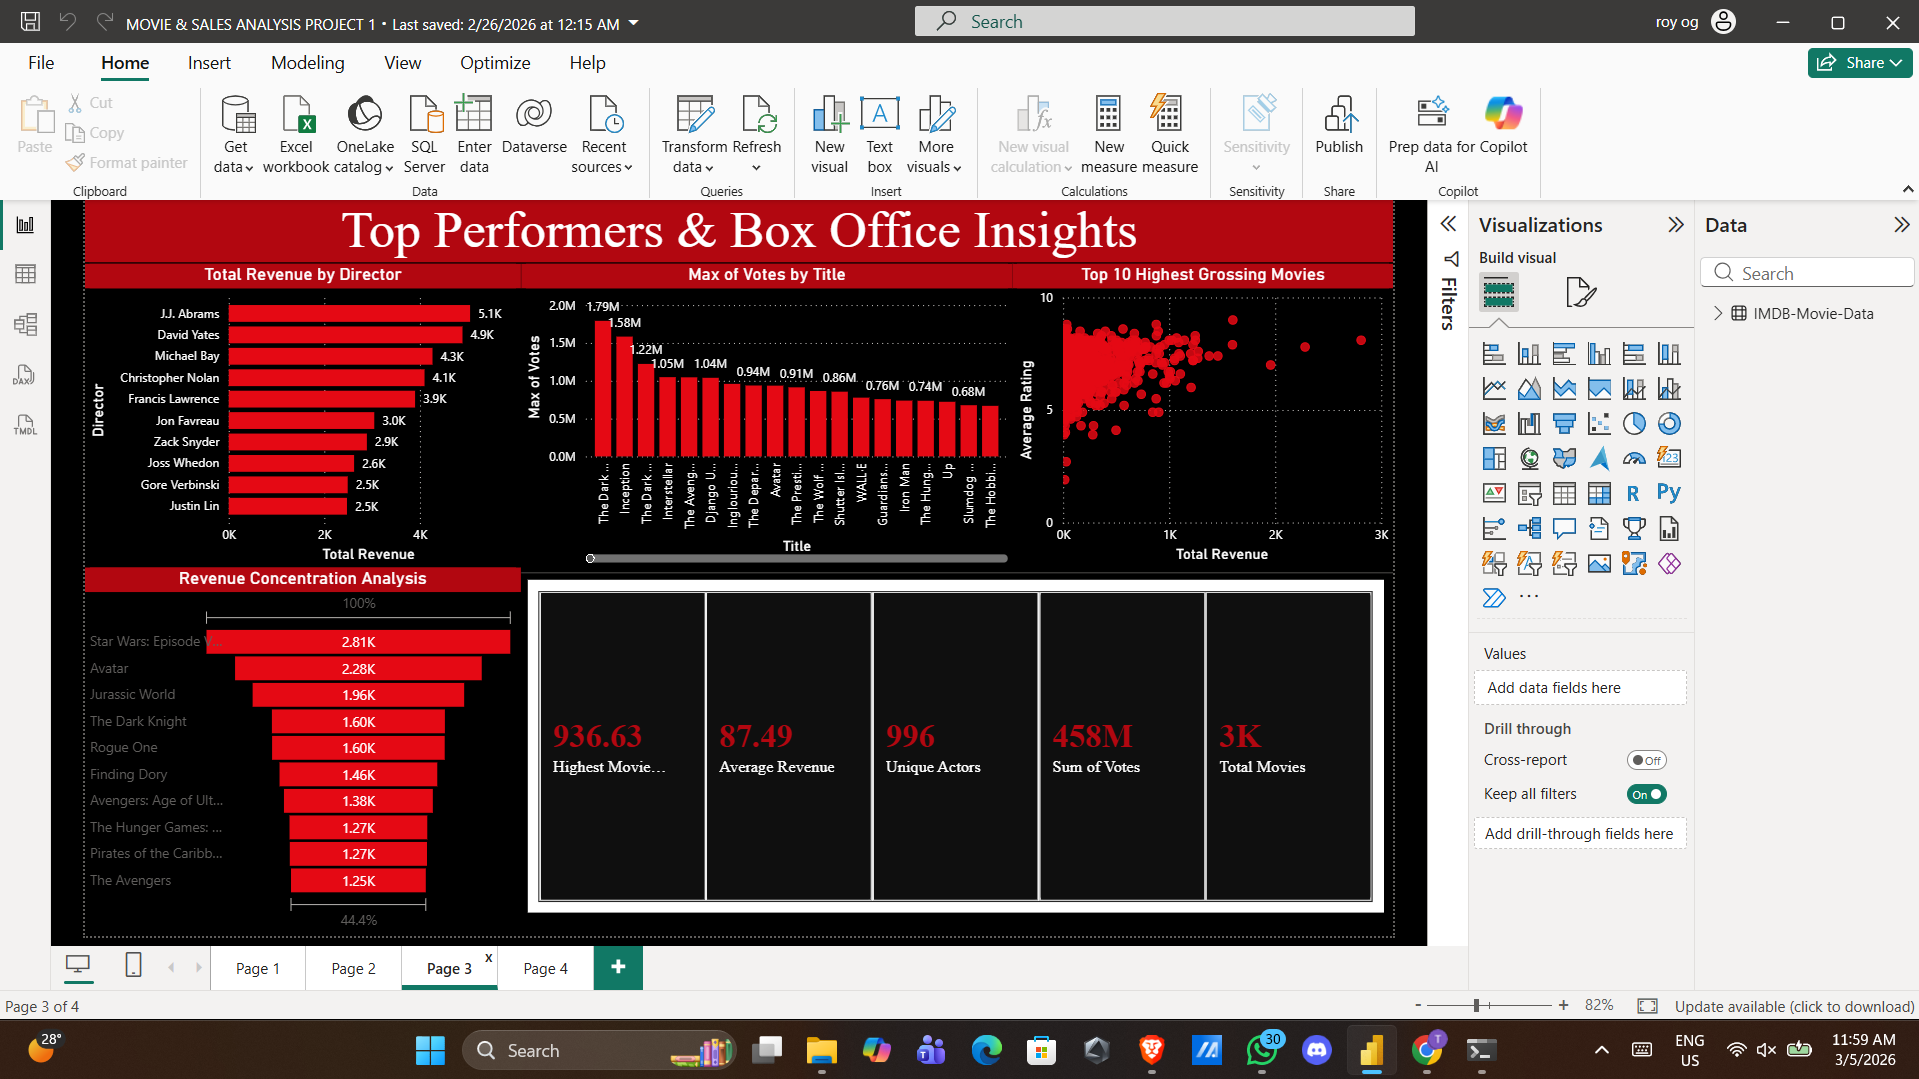

The dashboard page shown, as its layout file describes it:
{"tool":"powerbi","page":{"name":"Page 3","canvas":[1280,720],"ordinal":2},"visuals":[{"type":"textbox","title":"Top Performers & Box Office Insights","box":[0,0,1280,62.5],"z":0},{"type":"clusteredBarChart","fields":{"Category":["IMDB-Movie-Data.Director"],"Y":["IMDB-Movie-Data.Total Revenue"]},"box":[0,62.4,426.8,297.1],"z":1000},{"type":"clusteredColumnChart","fields":{"Category":["IMDB-Movie-Data.Title"],"Y":["Max(IMDB-Movie-Data.Votes)"]},"box":[426.2,62.5,481.2,297.5],"z":2000},{"type":"funnel","title":"Revenue Concentration Analysis","fields":{"Category":["IMDB-Movie-Data.Title"],"Y":["IMDB-Movie-Data.Total Revenue"]},"box":[0,360,426.2,360],"z":3000},{"type":"scatterChart","title":"Top 10 Highest Grossing Movies","fields":{"X":["IMDB-Movie-Data.Total Revenue"],"Y":["IMDB-Movie-Data.Average Rating"],"Category":["IMDB-Movie-Data.Title"]},"box":[907.3,62.4,373,297.1],"z":4000},{"type":"cardVisual","fields":{"Data":["IMDB-Movie-Data.Highest Movie Revenue","IMDB-Movie-Data.Average Revenue","IMDB-Movie-Data.Unique Actors","Sum(IMDB-Movie-Data.Votes)","IMDB-Movie-Data.Total Movies"]},"box":[426.8,359.5,853.5,343.6],"z":5000}]}

Visuals, with their boxes on the page's 1280x720 design canvas (x1, y1, x2, y2). These are canvas units, not pixel positions in the 1919x1079 screenshot, which may show the page scaled, cropped or inside an application window:
"Top Performers & Box Office Insights" textbox: bbox=[0, 0, 1280, 62]
clusteredBarChart - IMDB-Movie-Data.Director x IMDB-Movie-Data.Total Revenue: bbox=[0, 62, 427, 360]
clusteredColumnChart - IMDB-Movie-Data.Title x Max(IMDB-Movie-Data.Votes): bbox=[426, 62, 907, 360]
"Revenue Concentration Analysis" funnel: bbox=[0, 360, 426, 720]
"Top 10 Highest Grossing Movies" scatterChart: bbox=[907, 62, 1280, 360]
cardVisual - IMDB-Movie-Data.Highest Movie Revenue x IMDB-Movie-Data.Average Revenue: bbox=[427, 360, 1280, 703]
